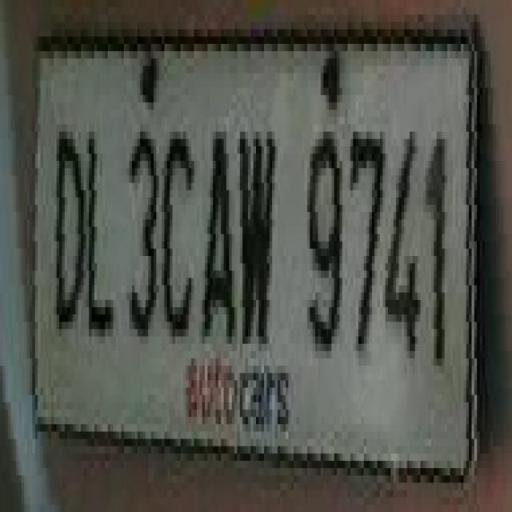number plate: (13, 14, 464, 461)
